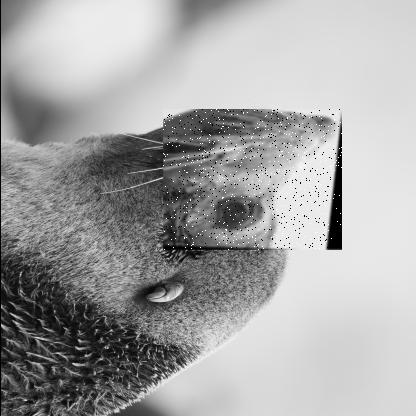face: (161, 109, 341, 251)
